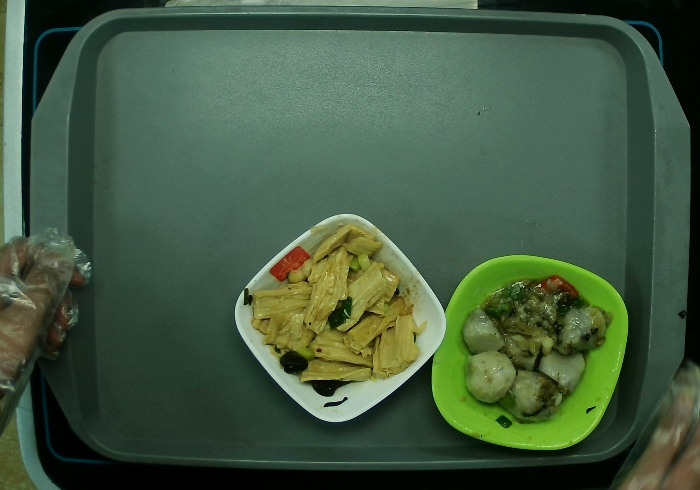SHKJ-Bai_Se_Xiao_Fang_Die: (234, 214, 446, 423)
SHKJ-Lv_Se_Cai_Die: (431, 254, 630, 451)
